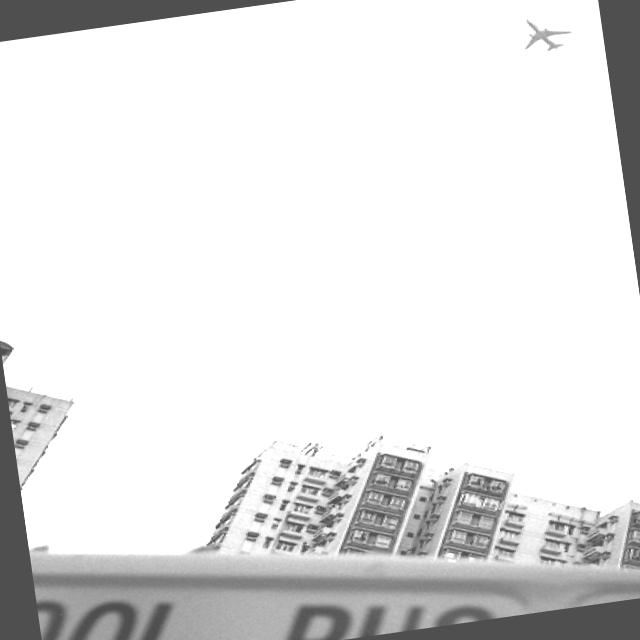Vehicle: (28, 454, 640, 640)
